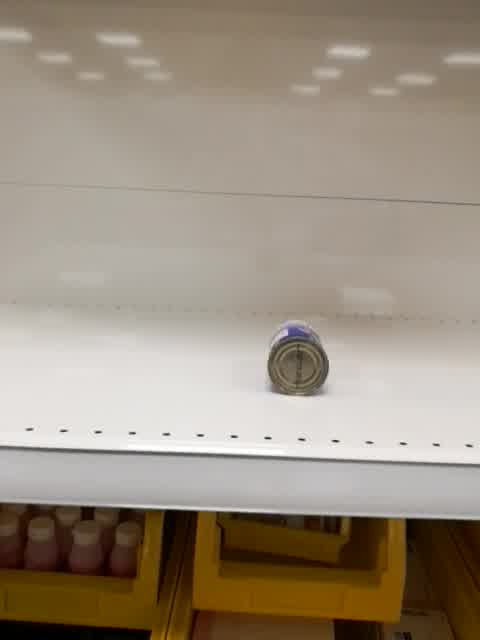sardine: (265, 319, 330, 397)
